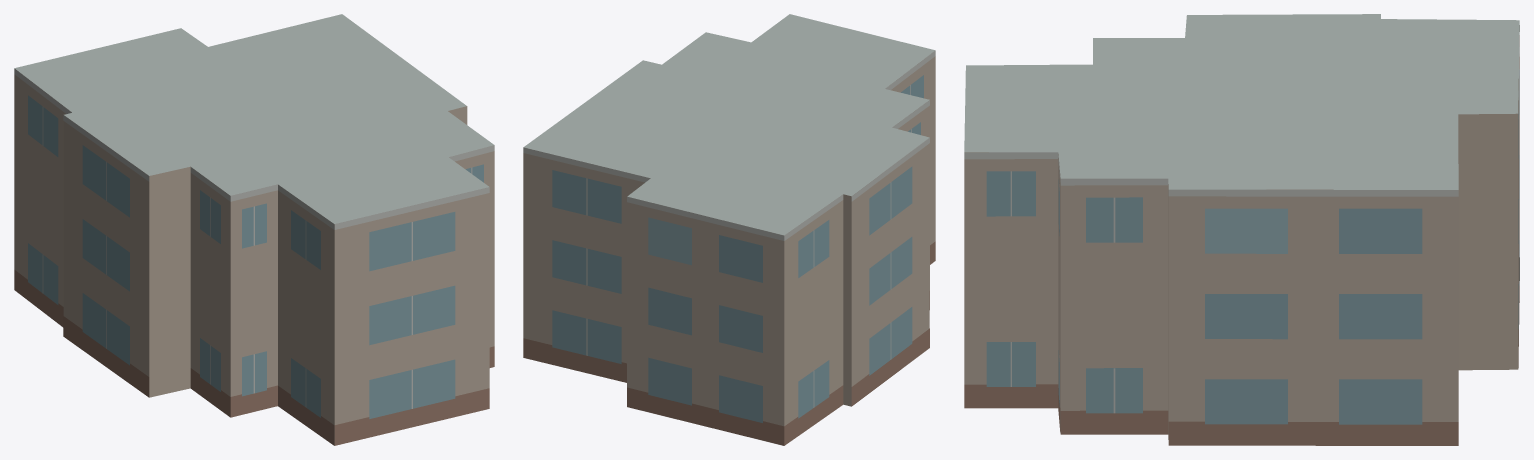
The model's file is survey-upis-32782264.glb.
3 views of the same model, side by side, from view 1: azimuth 30°, elevation 25°; view 2: azimuth 150°, elevation 25°; view 3: azimuth 270°, elevation 25° (orthographic). The views are drawn at different scales.
Parts seen in each view (by area): view 1: survey-upis-32782264.tmp; view 2: survey-upis-32782264.tmp; view 3: survey-upis-32782264.tmp.
Part boxes in pixels (x1=…): survey-upis-32782264.tmp: x1=14, y1=14, x2=494, y2=445; survey-upis-32782264.tmp: x1=523, y1=14, x2=935, y2=445; survey-upis-32782264.tmp: x1=964, y1=14, x2=1519, y2=445.
Size of the model in its own units: 13.5 by 9.15 by 18.01.
